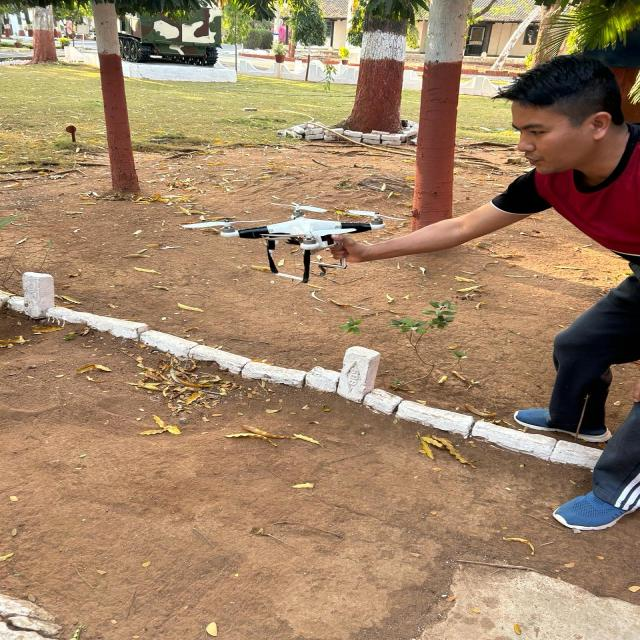drone: (165, 179, 408, 302)
